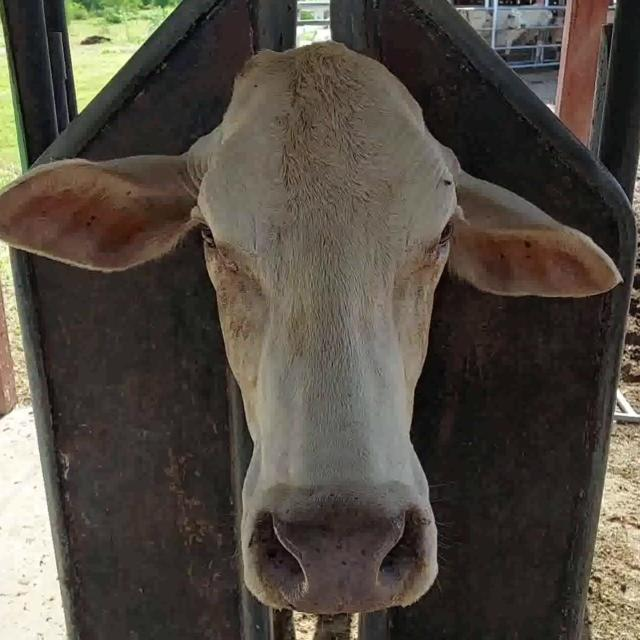cowFace: (191, 43, 462, 610)
